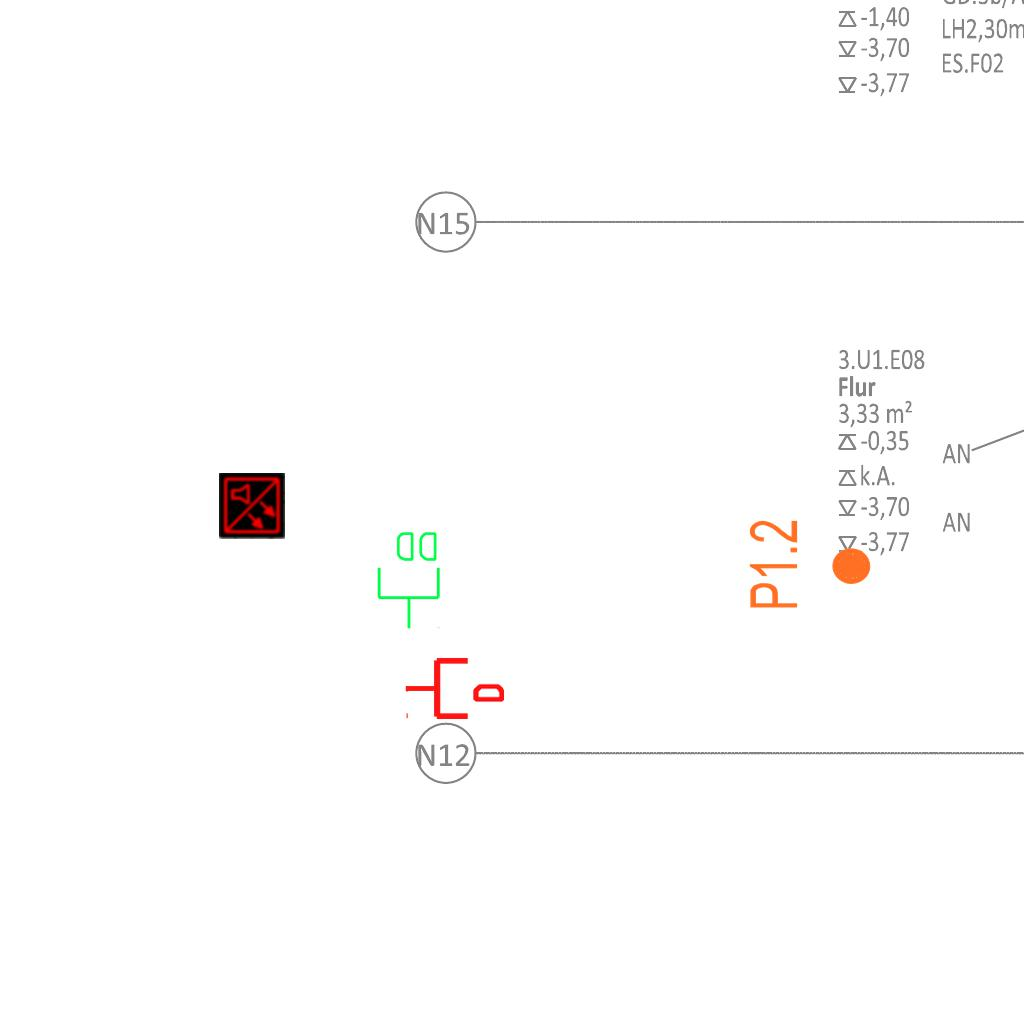Datenanschluss_einfach: (404, 654, 504, 723)
Datenanschluss_zweifach: (375, 528, 444, 631)
Downlight_LED_Einbauleuchten_Flur: (746, 518, 874, 611)
OKW_Multisensormelder_(Kombination_optischer_Rauch-Kahlenmonoxid_Waerme-Melder): (219, 473, 285, 539)
